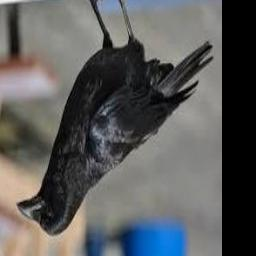Crow: (16, 0, 212, 238)
